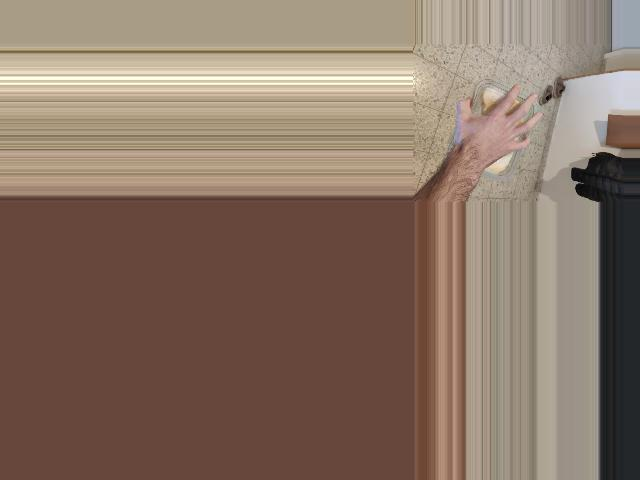cheese: (447, 82, 539, 176)
